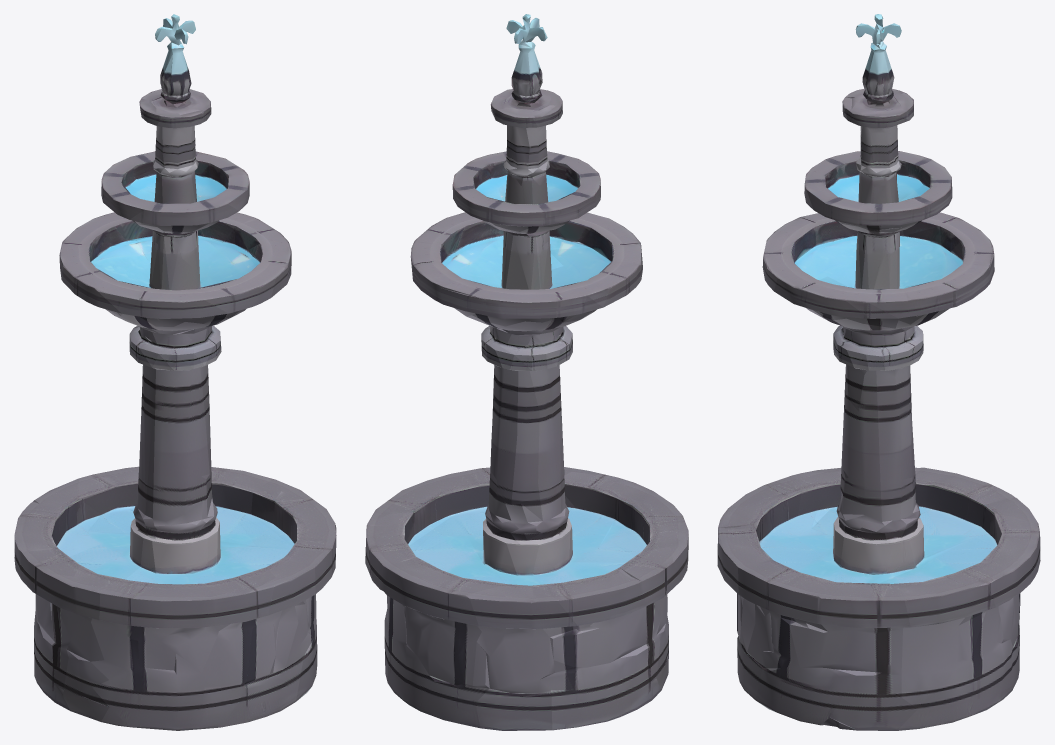
Rendered from fountainstatue.glb.
3 views of the same model, side by side, from view 1: azimuth 30°, elevation 25°; view 2: azimuth 150°, elevation 25°; view 3: azimuth 270°, elevation 25° (orthographic).
Bounding box in the file's own units: 0.8438 × 1.9 × 0.8446.
1 material, 1 textured.
